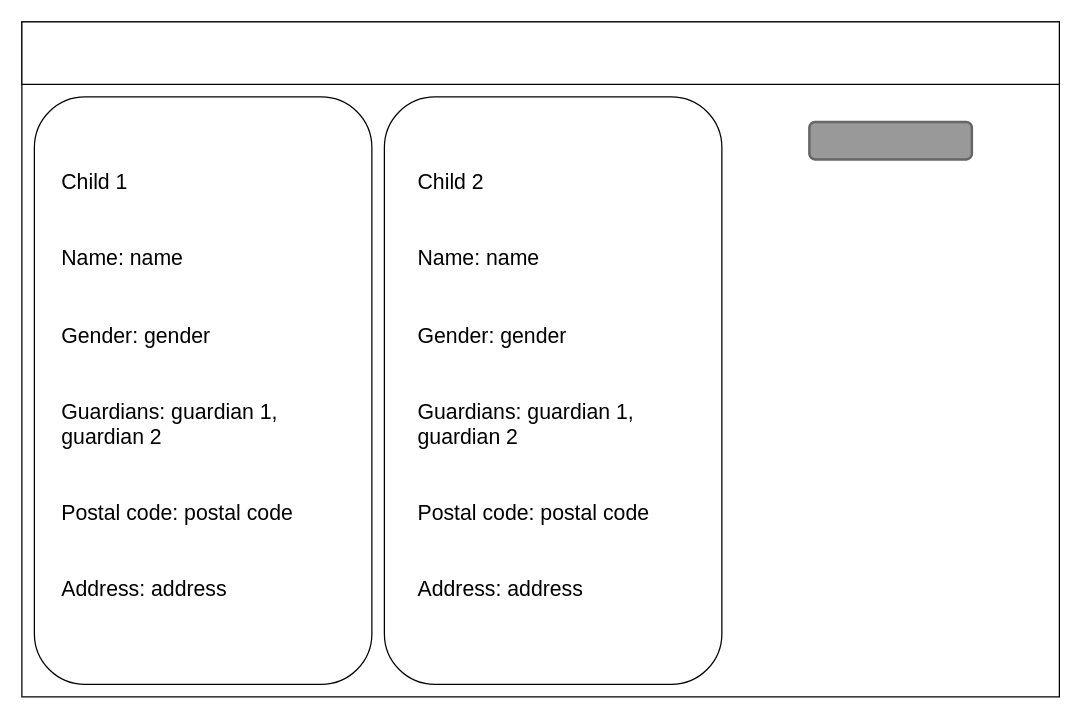
Some shapes in this 1081 by 719 pixel diagram are drawn without their labels. Each missing label, with the box of its shape:
Add child: (808, 120, 972, 160)
Child Profiles: (21, 21, 1059, 84)
